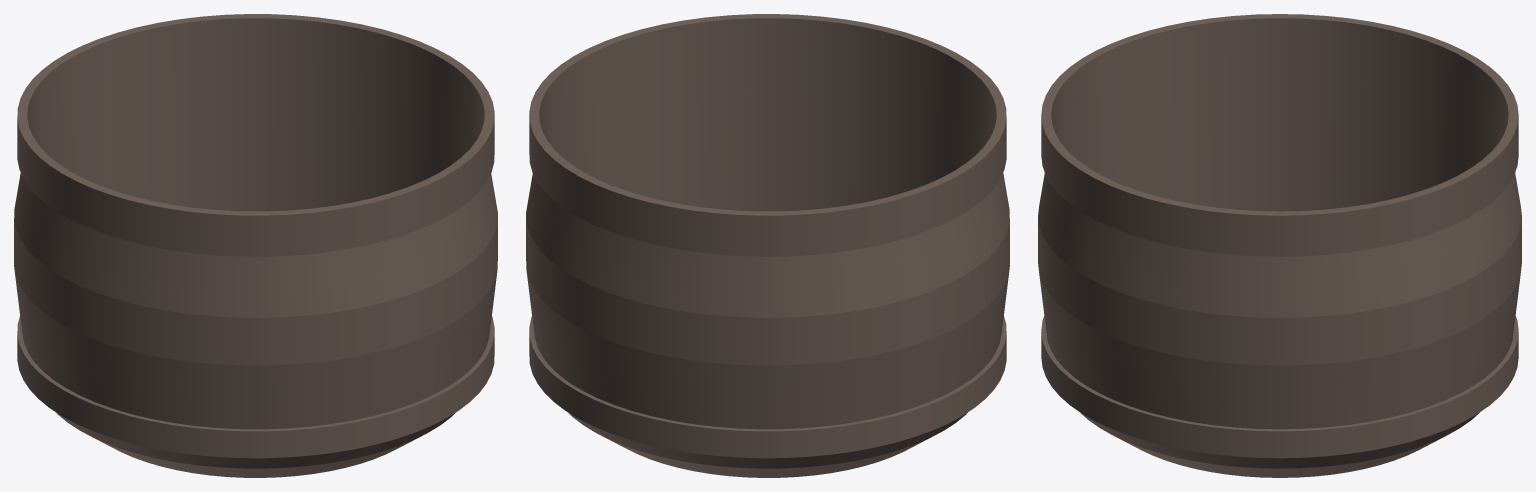
3 views of the same model, side by side, from view 1: azimuth 30°, elevation 25°; view 2: azimuth 150°, elevation 25°; view 3: azimuth 270°, elevation 25° (orthographic).
Visible parts, largest first — view 1: barrel_wall; view 2: barrel_wall; view 3: barrel_wall.
Part boxes in pixels (x1=…): barrel_wall: x1=14, y1=14, x2=497, y2=477; barrel_wall: x1=526, y1=14, x2=1009, y2=477; barrel_wall: x1=1038, y1=14, x2=1521, y2=477.
Bounding box in the file's own units: 0.294 × 0.1926 × 0.294.
